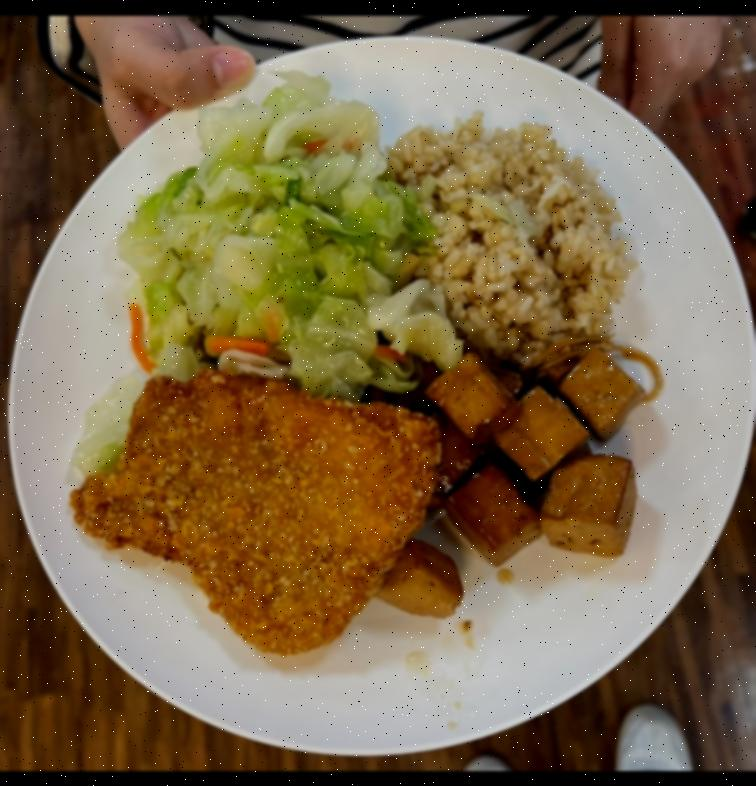big fried chicken leg: (12, 21, 756, 759)
box: (387, 119, 625, 368)
braised fish fillet: (114, 72, 450, 389), (377, 343, 639, 628)
braised pork: (68, 362, 442, 666)
